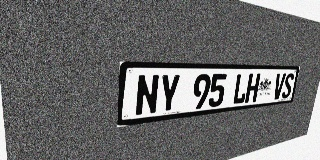5: (208, 74, 227, 108)
9: (191, 74, 212, 110)
H: (245, 73, 261, 103)
L: (232, 74, 249, 105)
N: (135, 74, 160, 116)
S: (281, 73, 295, 99)
V: (272, 73, 286, 100)
Y: (158, 74, 181, 114)
